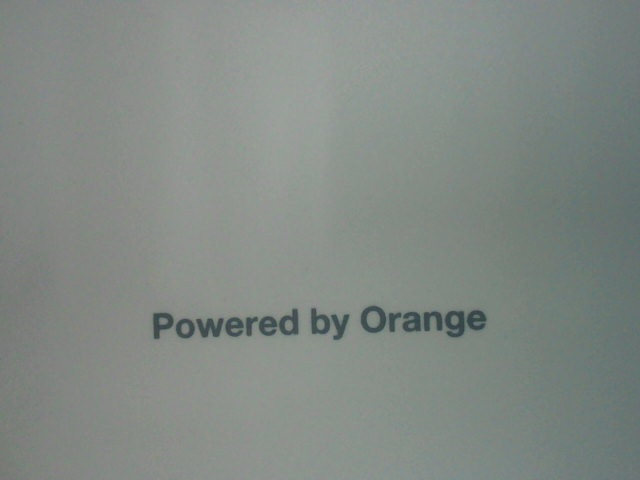AS_PowerByOrange: (141, 299, 500, 345)
